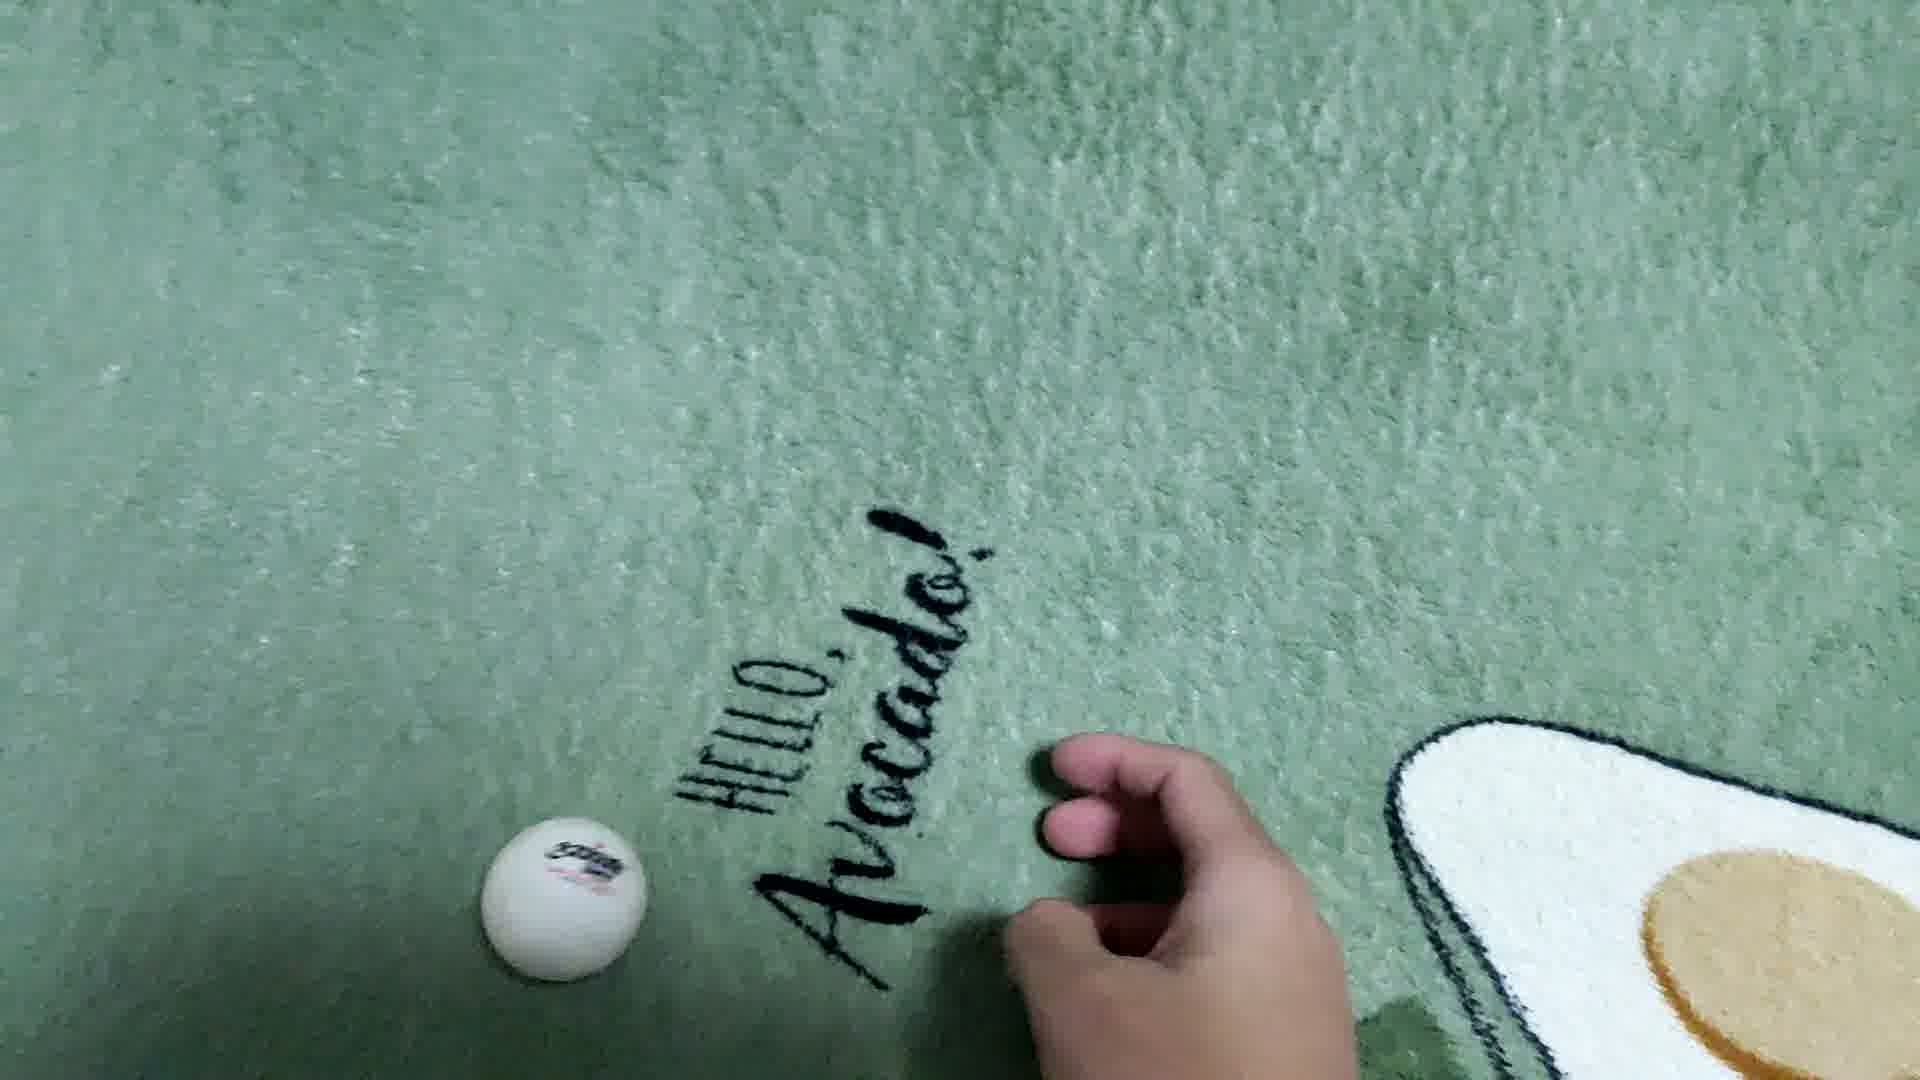Ball: (483, 816, 646, 978)
